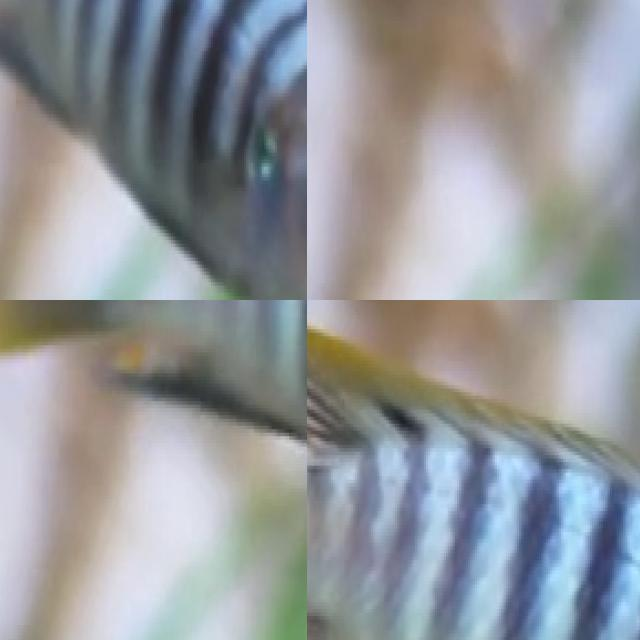fish: (307, 312, 640, 640), (0, 0, 307, 300), (0, 300, 307, 516)
